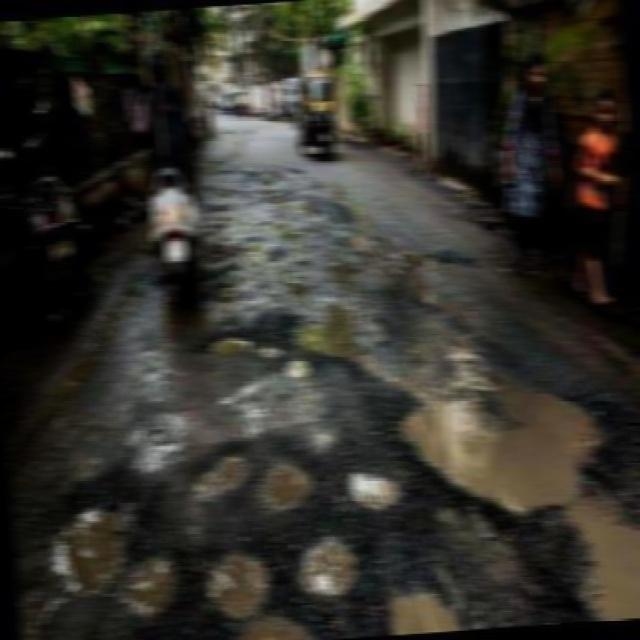Pothole: (397, 352, 640, 640), (213, 174, 372, 296), (51, 490, 145, 585), (172, 447, 251, 544), (118, 549, 200, 635), (281, 295, 378, 361), (203, 543, 275, 615), (292, 528, 364, 600), (347, 461, 418, 521), (381, 589, 466, 637), (405, 250, 459, 318), (264, 453, 314, 513), (222, 612, 319, 640), (209, 331, 267, 354), (278, 354, 318, 379), (260, 341, 287, 358)
